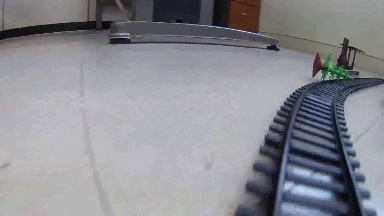tree: (311, 51, 355, 80)
